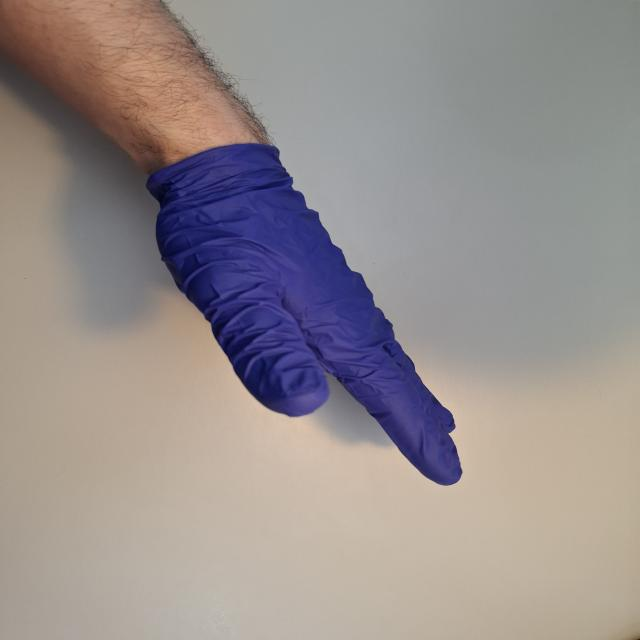glove_on: (143, 138, 467, 488)
